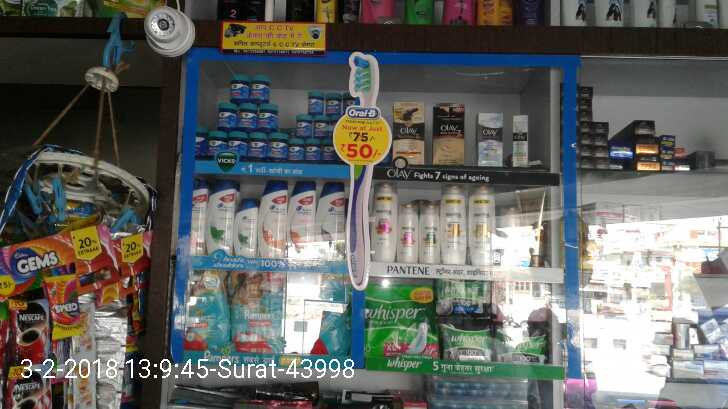beauty: (258, 176, 291, 262), (316, 180, 348, 261), (430, 101, 469, 165), (440, 180, 469, 266), (466, 187, 496, 264), (290, 176, 316, 262), (392, 99, 427, 162), (209, 178, 236, 256), (370, 183, 395, 264), (474, 112, 503, 167), (508, 114, 535, 170), (416, 202, 440, 265), (395, 201, 417, 261), (236, 199, 258, 258), (192, 178, 207, 254)
pharmacy: (196, 71, 358, 165), (363, 284, 440, 360), (231, 270, 287, 355), (192, 268, 233, 356), (441, 318, 497, 362)
